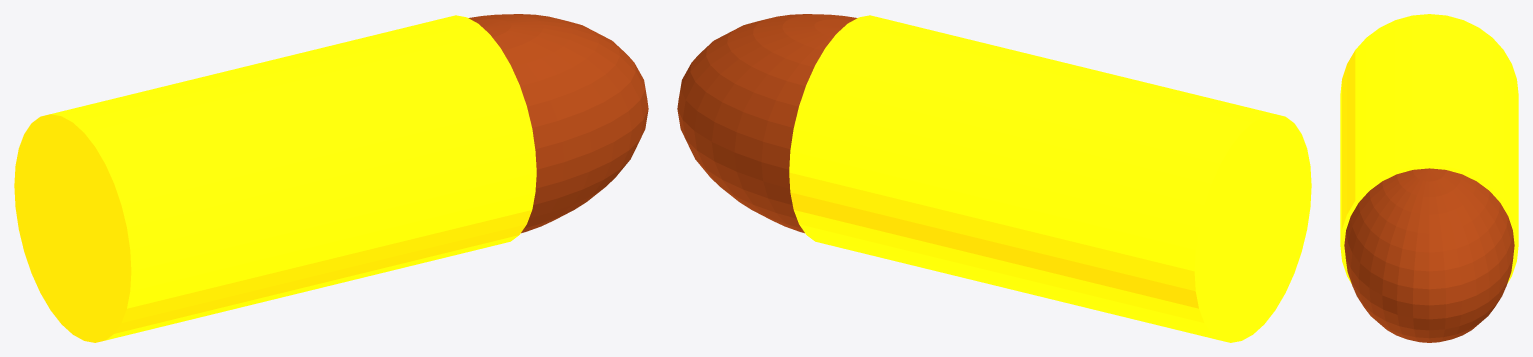
Rendered from bullet.glb.
3 renders of one model, left to right at view 1: azimuth 30°, elevation 25°; view 2: azimuth 150°, elevation 25°; view 3: azimuth 270°, elevation 25°, orthographic. The views are drawn at different scales.
Parts seen in each view (by area): view 1: Cylinder, Sphere; view 2: Cylinder, Sphere; view 3: Cylinder, Sphere.
Boxes of the visible parts, x1,y1,x2,y2 form: Cylinder: (14, 15, 536, 342); Sphere: (468, 14, 648, 233); Cylinder: (789, 15, 1311, 342); Sphere: (677, 14, 857, 233); Cylinder: (1340, 14, 1518, 283); Sphere: (1344, 168, 1514, 342).
Bounding box in the file's own units: 1.23 × 0.44 × 0.44.
